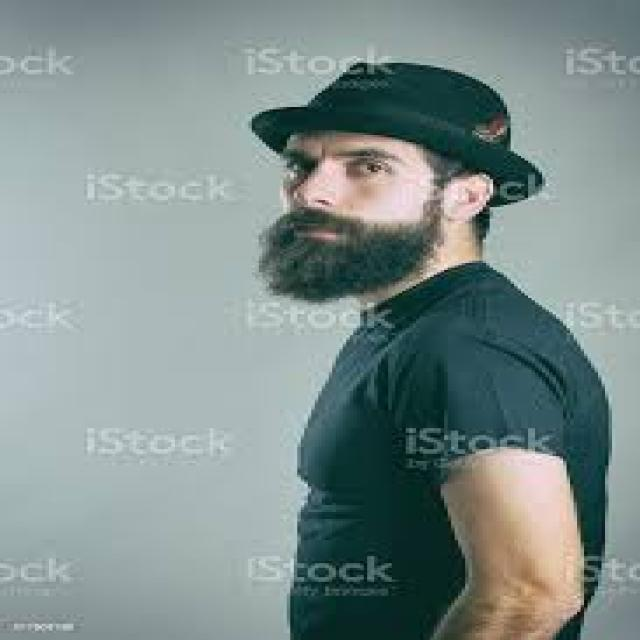hat: (248, 58, 546, 300)
